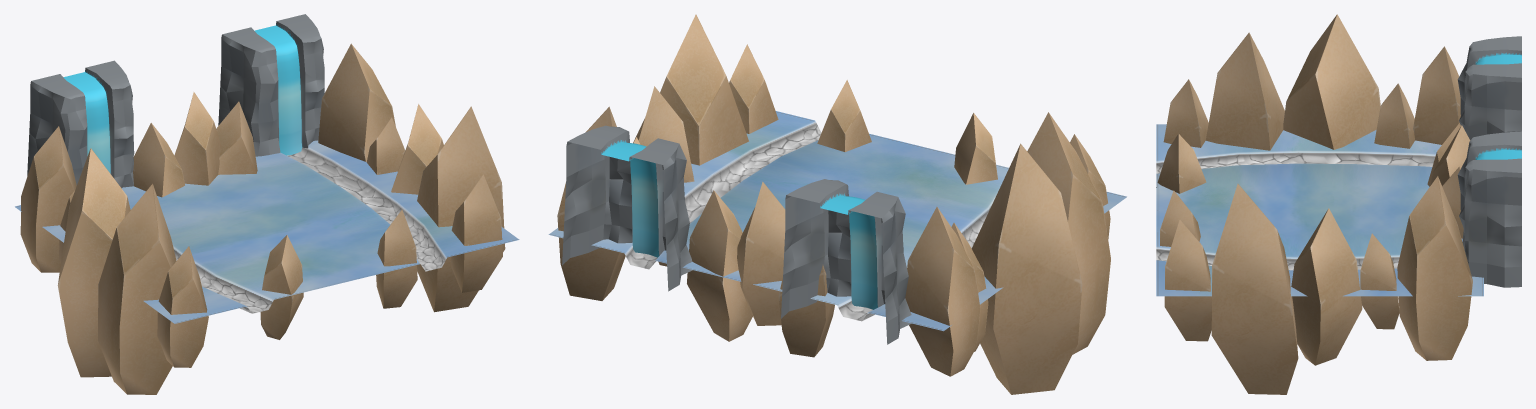
The model's file is water_stage.fbx.
The picture shows the model from 3 angles, left to right: view 1: azimuth 30°, elevation 25°; view 2: azimuth 150°, elevation 25°; view 3: azimuth 270°, elevation 25°; orthographic projection. The views are drawn at different scales.
Parts seen in each view (by area): view 1: water_stage, waterfall_moderu02, rock_moderu10, waterfall_moderu01, rock_moderu9, rock_moderu11, rock_moderu5, rock_moderu4, rock_moderu12, rock_moderu13, rock_moderu14, rock_moderu1 (+5 smaller); view 2: water_stage, rock_moderu9, waterfall_moderu02, waterfall_moderu01, rock_moderu4, rock_moderu10, rock_moderu11, rock_moderu2, rock_moderu1, rock_moderu5, rock_moderu3, rock_moderu13 (+5 smaller); view 3: water_stage, rock_moderu11, rock_moderu5, waterfall_moderu02, rock_moderu9, rock_moderu8, rock_moderu10, waterfall_moderu01, rock_moderu13, rock_moderu4, rock_moderu7, rock_moderu12 (+6 smaller).
Part boxes in pixels (left/top/right/bottom): water_stage: left=15, top=140, right=519, bottom=323; waterfall_moderu02: left=218, top=14, right=324, bottom=156; rock_moderu10: left=98, top=183, right=176, bottom=394; waterfall_moderu01: left=27, top=60, right=134, bottom=188; rock_moderu9: left=57, top=148, right=130, bottom=377; rock_moderu11: left=417, top=106, right=505, bottom=312; rock_moderu5: left=318, top=43, right=395, bottom=161; rock_moderu4: left=20, top=126, right=76, bottom=272; rock_moderu12: left=157, top=246, right=208, bottom=367; rock_moderu13: left=451, top=174, right=502, bottom=292; rock_moderu14: left=260, top=235, right=303, bottom=339; rock_moderu1: left=174, top=92, right=221, bottom=185; water_stage: left=548, top=111, right=1126, bottom=331; rock_moderu9: left=971, top=143, right=1082, bottom=394; waterfall_moderu02: left=562, top=125, right=692, bottom=291; waterfall_moderu01: left=781, top=179, right=911, bottom=344; rock_moderu4: left=905, top=207, right=980, bottom=376; rock_moderu10: left=1027, top=112, right=1110, bottom=354; rock_moderu11: left=658, top=14, right=748, bottom=266; rock_moderu2: left=687, top=190, right=752, bottom=341; rock_moderu1: left=737, top=181, right=785, bottom=325; rock_moderu5: left=557, top=106, right=625, bottom=300; rock_moderu3: left=778, top=264, right=834, bottom=357; rock_moderu13: left=729, top=44, right=778, bottom=133; water_stage: left=1156, top=124, right=1483, bottom=296; rock_moderu11: left=1211, top=183, right=1298, bottom=394; rock_moderu5: left=1397, top=176, right=1472, bottom=360; waterfall_moderu02: left=1457, top=131, right=1521, bottom=287; rock_moderu9: left=1283, top=14, right=1380, bottom=149; rock_moderu8: left=1291, top=208, right=1362, bottom=365; rock_moderu10: left=1205, top=32, right=1284, bottom=150; waterfall_moderu01: left=1457, top=36, right=1521, bottom=140; rock_moderu13: left=1164, top=219, right=1211, bottom=341; rock_moderu4: left=1413, top=46, right=1460, bottom=144; rock_moderu7: left=1360, top=233, right=1399, bottom=329; rock_moderu12: left=1163, top=79, right=1208, bottom=147.
Bounding box in the file's own units: 1179 × 611 × 910.
